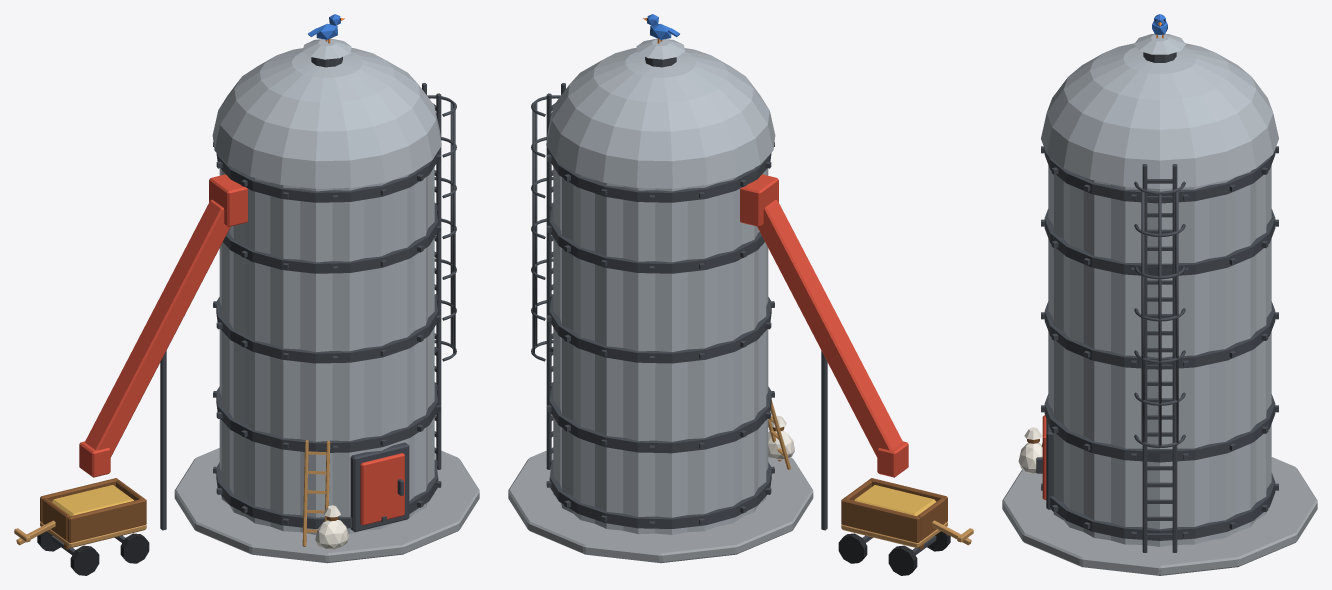
The model's file is low-poly-grain-silo.glb.
3 renders of one model, left to right at view 1: azimuth 30°, elevation 25°; view 2: azimuth 150°, elevation 25°; view 3: azimuth 270°, elevation 25°, orthographic. The views are drawn at different scales.
Parts seen in each view (by area): view 1: SiloBody, DomeCap, Pad, Chute, Band_2, Band_1, HatchDoor, Band_3, Band_4, CartSide_S, Band_0, LadderRail_L (+12 smaller); view 2: SiloBody, DomeCap, Pad, Chute, Band_0, Band_1, Band_2, Band_3, Band_4, CartSide_N, LadderRail_R, ChuteInlet (+9 smaller); view 3: SiloBody, DomeCap, Pad, Band_1, Band_3, Band_2, Band_0, LadderRungs, Band_4, LadderRail_L, LadderRail_R, CageStrap_1 (+6 smaller).
Part boxes in pixels (box(x1,y1,x2,y2)): SiloBody: box(219, 167, 434, 534); DomeCap: box(212, 48, 441, 188); Pad: box(174, 448, 479, 563); Chute: box(85, 199, 230, 457); Band_2: box(216, 295, 438, 363); Band_1: box(216, 385, 438, 452); HatchDoor: box(360, 453, 404, 525); Band_3: box(223, 206, 438, 273); Band_4: box(216, 151, 438, 202); CartSide_S: box(67, 498, 146, 542); Band_0: box(216, 461, 438, 528); LadderRail_L: box(436, 93, 441, 469); SiloBody: box(553, 167, 768, 534); DomeCap: box(546, 48, 775, 188); Pad: box(508, 450, 813, 563); Chute: box(757, 199, 902, 457); Band_0: box(549, 461, 771, 528); Band_1: box(549, 385, 771, 453); Band_2: box(549, 295, 771, 363); Band_3: box(549, 206, 764, 273); Band_4: box(549, 151, 771, 202); CartSide_N: box(841, 498, 920, 542); LadderRail_R: box(546, 93, 551, 469); ChuteInlet: box(740, 174, 778, 226); SiloBody: box(1048, 165, 1271, 546); DomeCap: box(1041, 43, 1278, 188); Pad: box(1002, 457, 1317, 575); Band_1: box(1044, 394, 1275, 462); Band_3: box(1044, 209, 1275, 275); Band_2: box(1044, 301, 1275, 369); Band_0: box(1050, 473, 1275, 540); LadderRungs: box(1147, 179, 1172, 537); Band_4: box(1044, 150, 1275, 203); LadderRail_L: box(1142, 164, 1147, 552); LadderRail_R: box(1172, 164, 1177, 552); CageStrap_1: box(1158, 194, 1161, 446).
Size of the model in its own units: 28.36 by 29.63 by 16.95.
